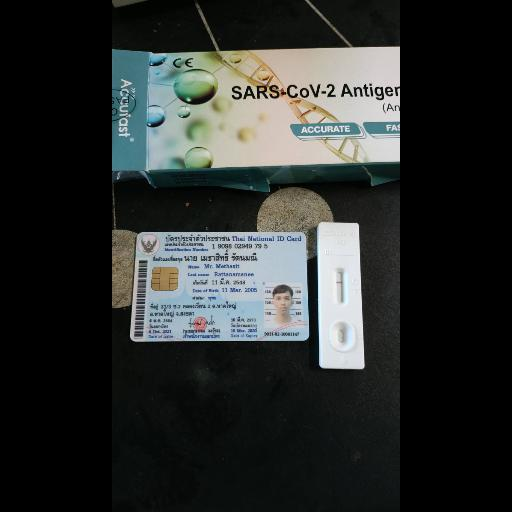Neg: (318, 222, 364, 368)
